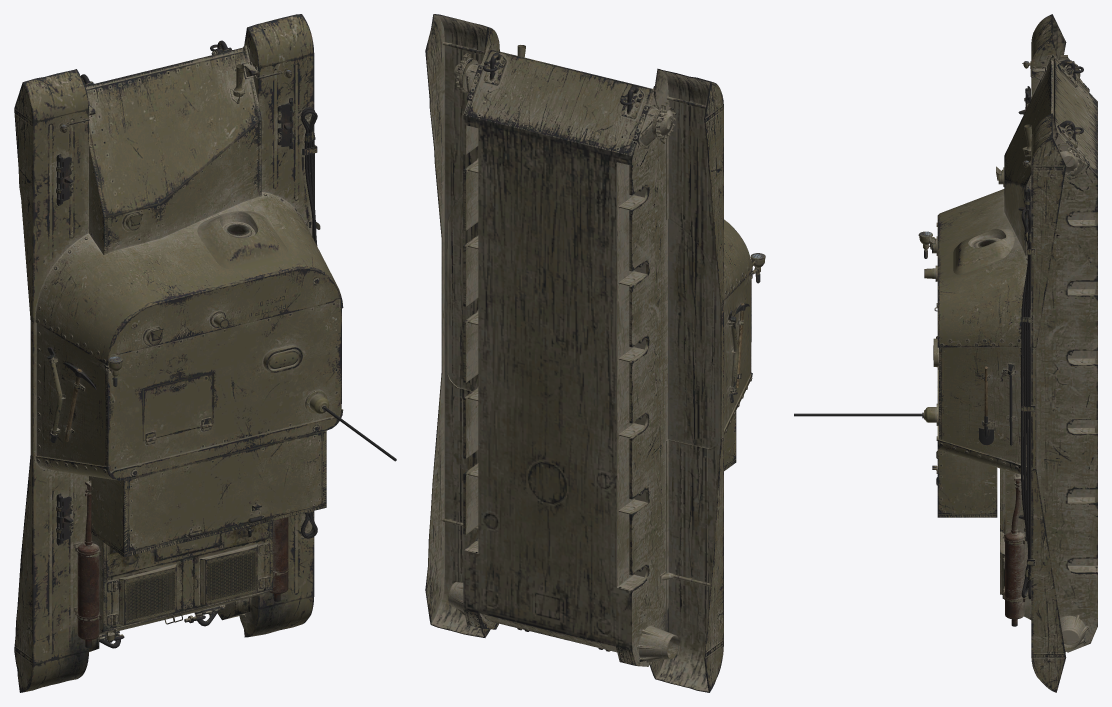
Rendered from Hull.glb.
3 renders of one model, left to right at view 1: azimuth 30°, elevation 25°; view 2: azimuth 150°, elevation 25°; view 3: azimuth 270°, elevation 25°, orthographic. The views are drawn at different scales.
Visible parts, largest first — view 1: set_0_group_0; view 2: set_0_group_0; view 3: set_0_group_0.
Part boxes in pixels (left/top/right/bottom): set_0_group_0: left=14, top=14, right=396, bottom=692; set_0_group_0: left=425, top=14, right=765, bottom=692; set_0_group_0: left=794, top=14, right=1097, bottom=692.
Size of the model in its own units: 3.49 by 7.24 by 3.58.
1 material, 1 textured.
